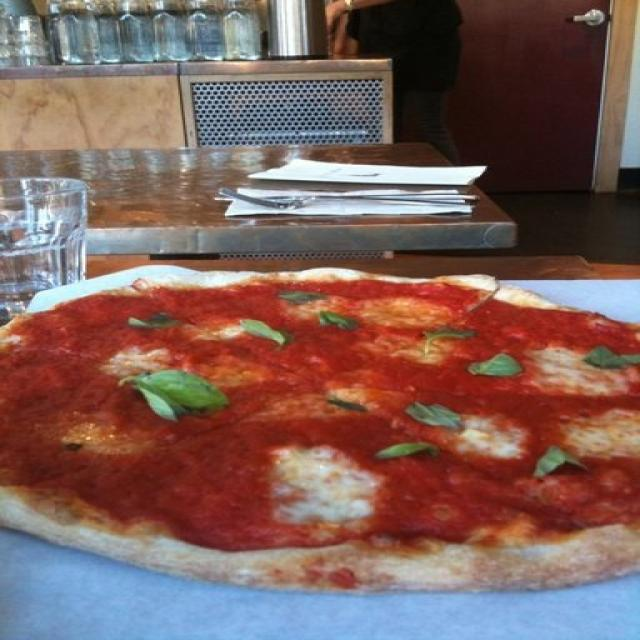Basil: (110, 368, 232, 420), (238, 314, 296, 352), (532, 444, 590, 478), (407, 400, 467, 432), (379, 436, 440, 462), (418, 330, 476, 356), (578, 344, 640, 366), (471, 352, 524, 376), (130, 312, 187, 329), (316, 311, 363, 331), (277, 290, 322, 303), (332, 397, 368, 413)
Cheese: (262, 440, 384, 536), (267, 289, 450, 331), (525, 333, 637, 398), (248, 377, 376, 426), (441, 402, 534, 468), (561, 403, 640, 462), (68, 418, 154, 459), (374, 326, 450, 364), (111, 341, 174, 383), (182, 353, 252, 388), (180, 320, 252, 344)
Pizza: (2, 266, 637, 589)
